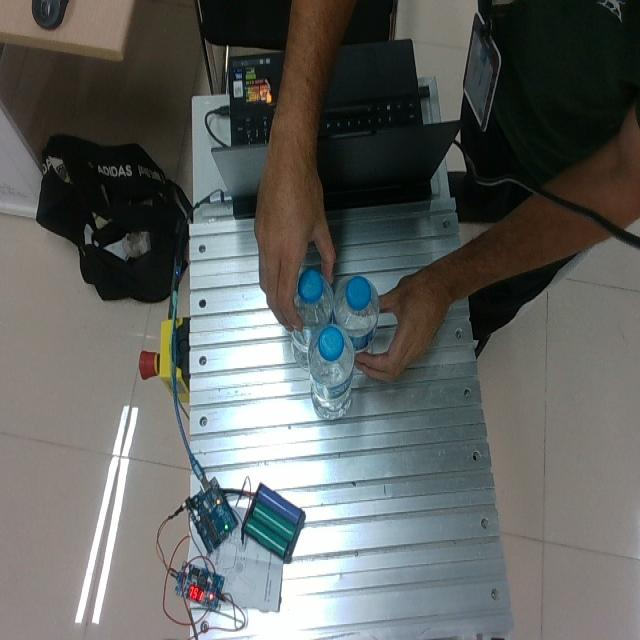lavie: (306, 321, 355, 419), (291, 268, 334, 369), (332, 275, 380, 356)
